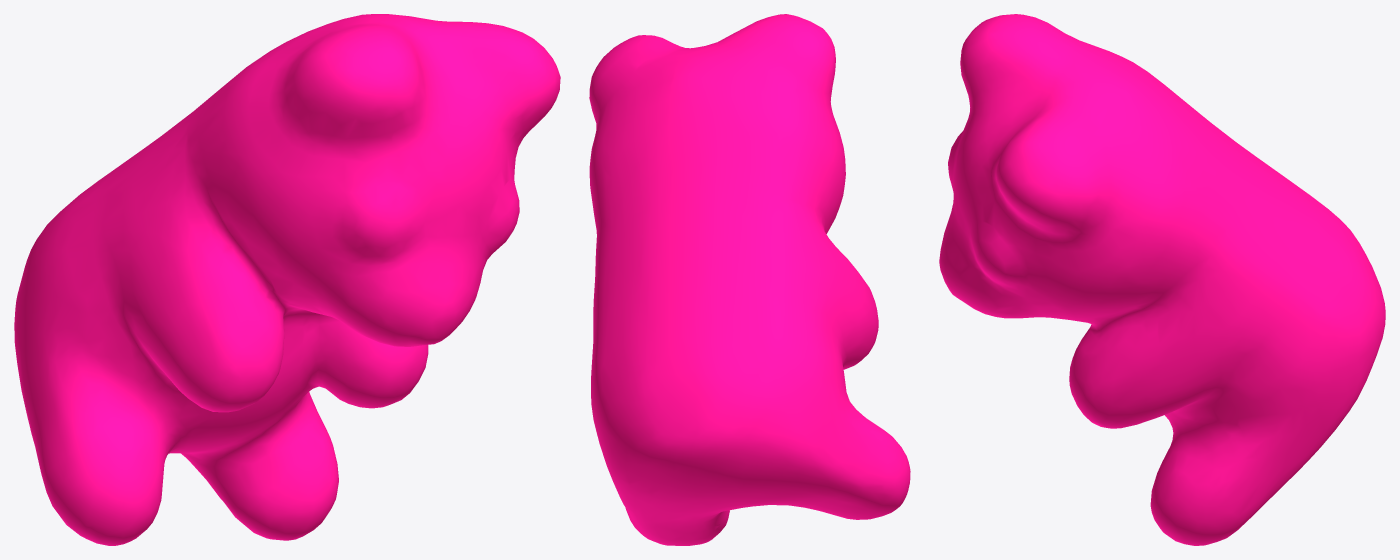
3 views of the same model, side by side, from view 1: azimuth 30°, elevation 25°; view 2: azimuth 150°, elevation 25°; view 3: azimuth 270°, elevation 25° (orthographic). The views are drawn at different scales.
Visible parts, largest first — view 1: bear.005; view 2: bear.005; view 3: bear.005.
Part boxes in pixels (x1,y1,x2,y2): bear.005: [14, 14, 560, 545]; bear.005: [589, 14, 910, 545]; bear.005: [939, 14, 1385, 545].
Bounding box in the file's own units: 0.8944 × 1.13 × 0.8962.
